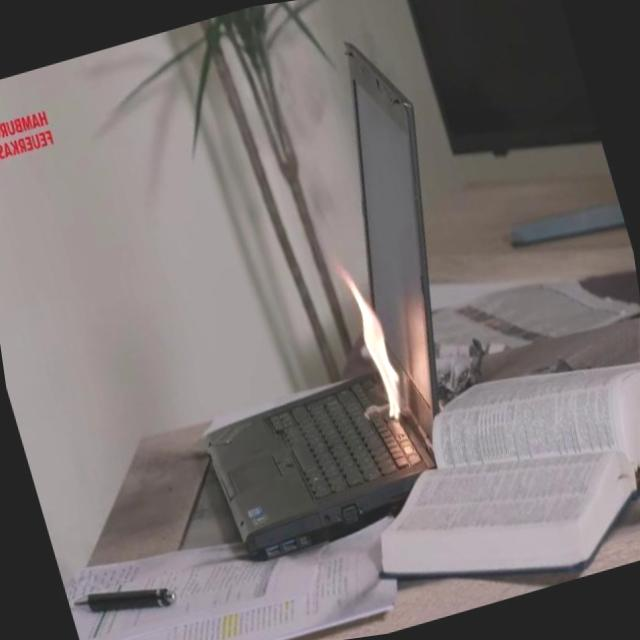fire: (321, 253, 432, 438)
